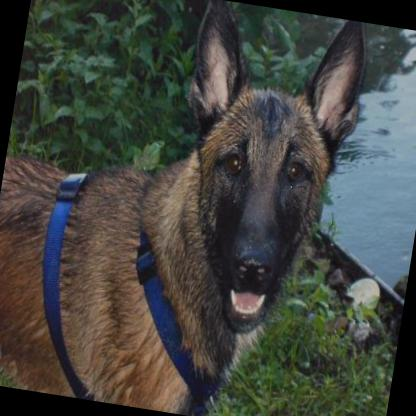malinois: (0, 0, 373, 416)
